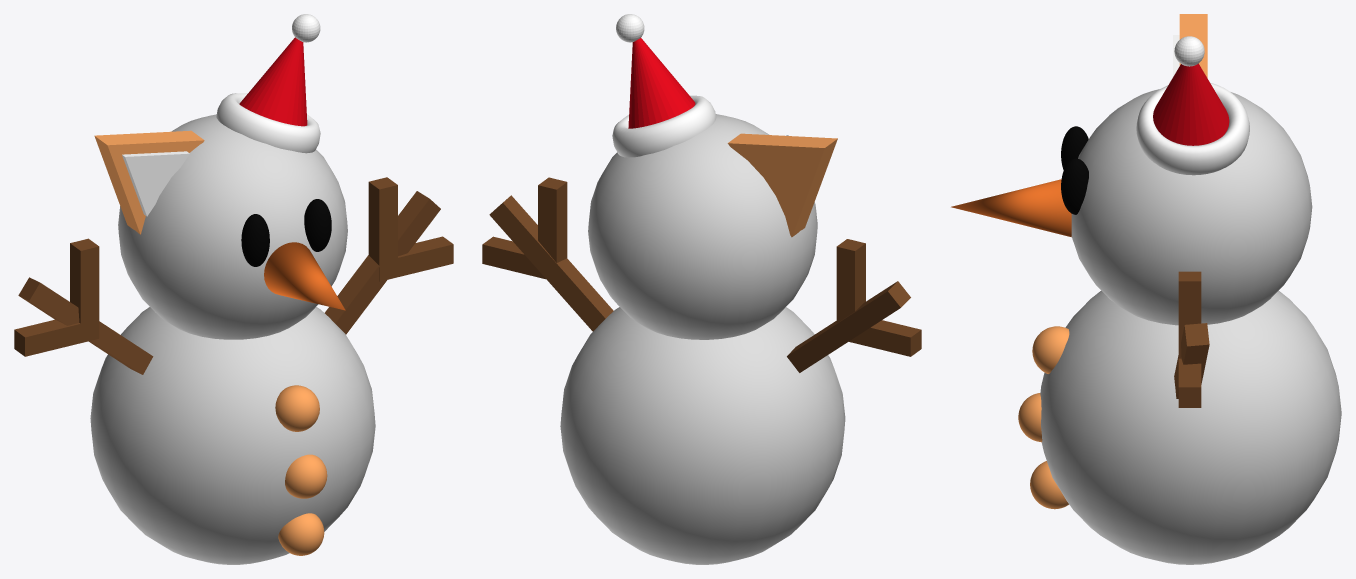
The picture shows the model from 3 angles, left to right: view 1: azimuth 30°, elevation 25°; view 2: azimuth 150°, elevation 25°; view 3: azimuth 270°, elevation 25°; orthographic projection. The views are drawn at different scales.
Parts seen in each view (by area): view 1: 球, 球.001, 立方体.004, 立方体, 円柱, 円錐.001, 円錐, トーラス, 円柱.001, 球.005, 球.006, 球.004 (+3 smaller); view 2: 球, 球.001, 立方体.004, 立方体, 円柱, 円錐.001, トーラス, 球.007; view 3: 球, 球.001, トーラス, 円錐.001, 立方体.004, 円錐, 球.005, 球.002, 球.006, 円柱, 球.004, 球.007 (+1 smaller).
Boxes of the visible parts, <box> form: 球: <box>90,307,375,564</box>; 球.001: <box>118,114,347,339</box>; 立方体.004: <box>325,177,453,334</box>; 立方体: <box>14,238,153,374</box>; 円柱: <box>94,130,204,234</box>; 円錐.001: <box>239,37,307,126</box>; 円錐: <box>264,242,345,310</box>; トーラス: <box>216,93,320,153</box>; 円柱.001: <box>122,151,189,216</box>; 球.005: <box>275,385,319,431</box>; 球.006: <box>278,513,324,555</box>; 球.004: <box>285,454,327,498</box>; 球: <box>560,307,845,564</box>; 球.001: <box>588,114,817,339</box>; 立方体.004: <box>482,177,613,331</box>; 立方体: <box>787,239,921,372</box>; 円柱: <box>727,133,837,237</box>; 円錐.001: <box>628,38,695,128</box>; トーラス: <box>612,95,716,157</box>; 球.007: <box>616,14,644,42</box>; 球: <box>1040,290,1341,564</box>; 球.001: <box>1071,89,1312,325</box>; トーラス: <box>1136,82,1249,175</box>; 円錐.001: <box>1153,63,1229,145</box>; 立方体.004: <box>1174,271,1209,407</box>; 円錐: <box>951,179,1071,237</box>; 球.005: <box>1032,326,1069,373</box>; 球.002: <box>1061,158,1088,214</box>; 球.006: <box>1030,461,1068,509</box>; 円柱: <box>1179,14,1207,77</box>; 球.004: <box>1018,393,1042,442</box>; 球.007: <box>1174,36,1204,66</box>.
Bounding box in the file's own units: 1.07 × 1.24 × 0.7969.
